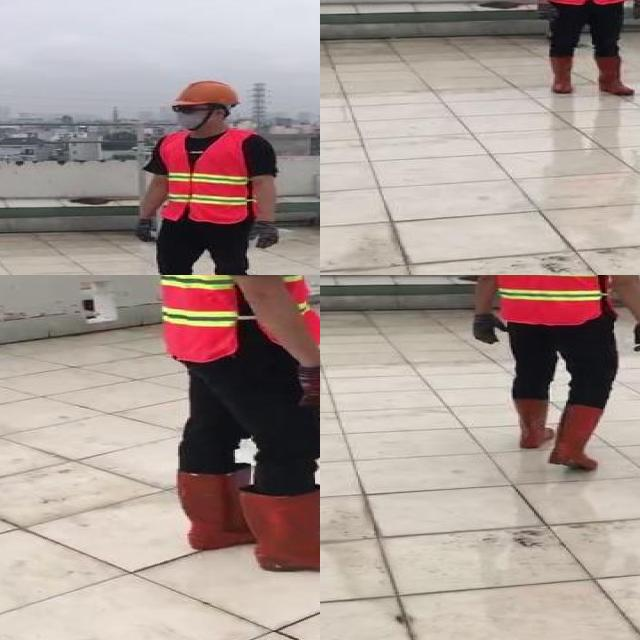boots: (171, 469, 269, 549), (238, 483, 320, 572), (548, 403, 604, 470), (511, 397, 553, 452), (592, 54, 636, 96), (548, 53, 576, 96)
face_mask: (170, 102, 221, 130)
glasses: (170, 100, 210, 118)
hand_glove: (291, 366, 320, 407), (468, 313, 506, 344), (247, 222, 279, 248), (135, 217, 158, 244), (537, 3, 558, 23), (631, 323, 640, 353), (631, 0, 640, 19)
head_helmet: (174, 78, 240, 108)
person: (150, 275, 320, 577), (117, 78, 291, 275), (471, 275, 640, 469), (519, 0, 640, 100)
vest: (160, 275, 320, 359), (158, 129, 254, 221), (484, 275, 612, 325)
